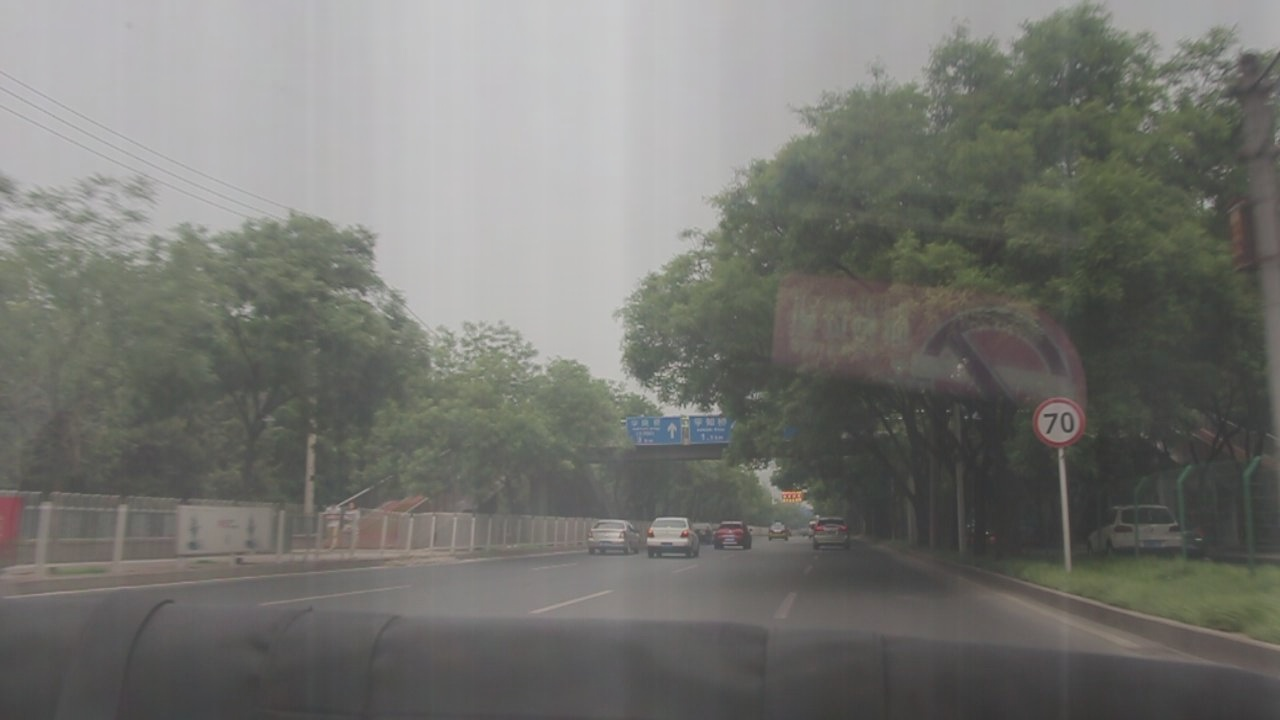Prohibitory Signs: (1031, 396, 1087, 449)
